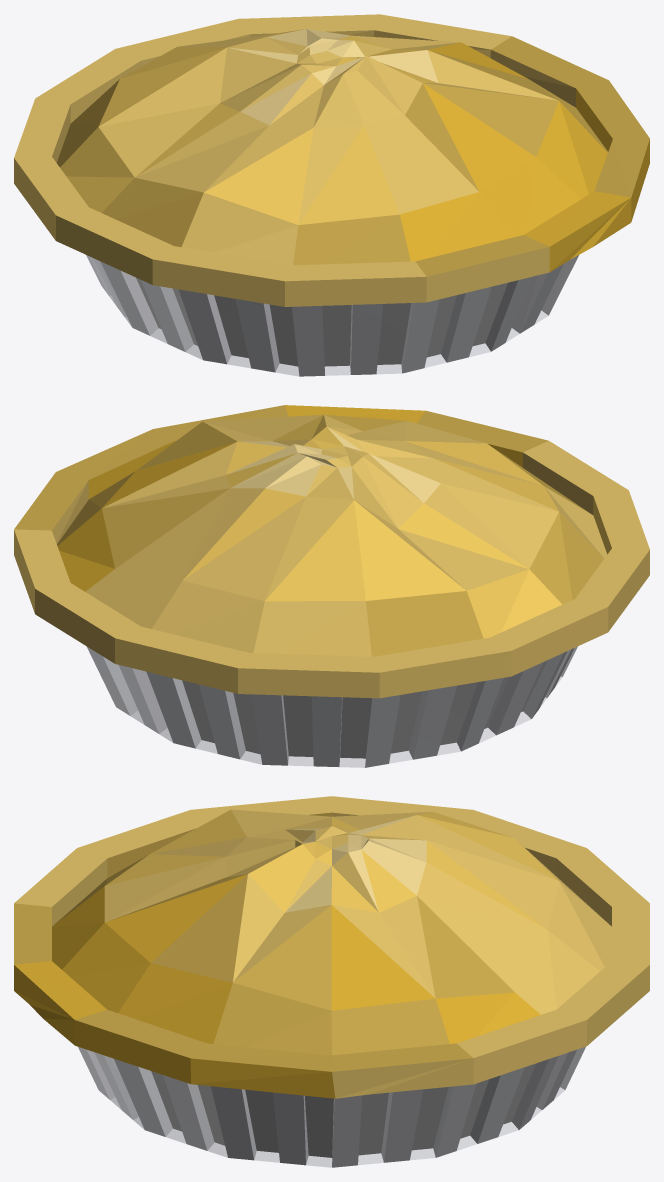
The model's file is tarte1.FBX.
3 views of the same model, one above another, from view 1: azimuth 30°, elevation 25°; view 2: azimuth 150°, elevation 25°; view 3: azimuth 270°, elevation 25° (orthographic). The views are drawn at different scales.
Parts seen in each view (by area): view 1: Cylinder001; view 2: Cylinder001; view 3: Cylinder001.
Part boxes in pixels (x1,y1,x2,y2): Cylinder001: [14, 14, 649, 376]; Cylinder001: [14, 405, 649, 767]; Cylinder001: [14, 796, 649, 1167].
Size of the model in its own units: 102 by 40.52 by 99.86.
